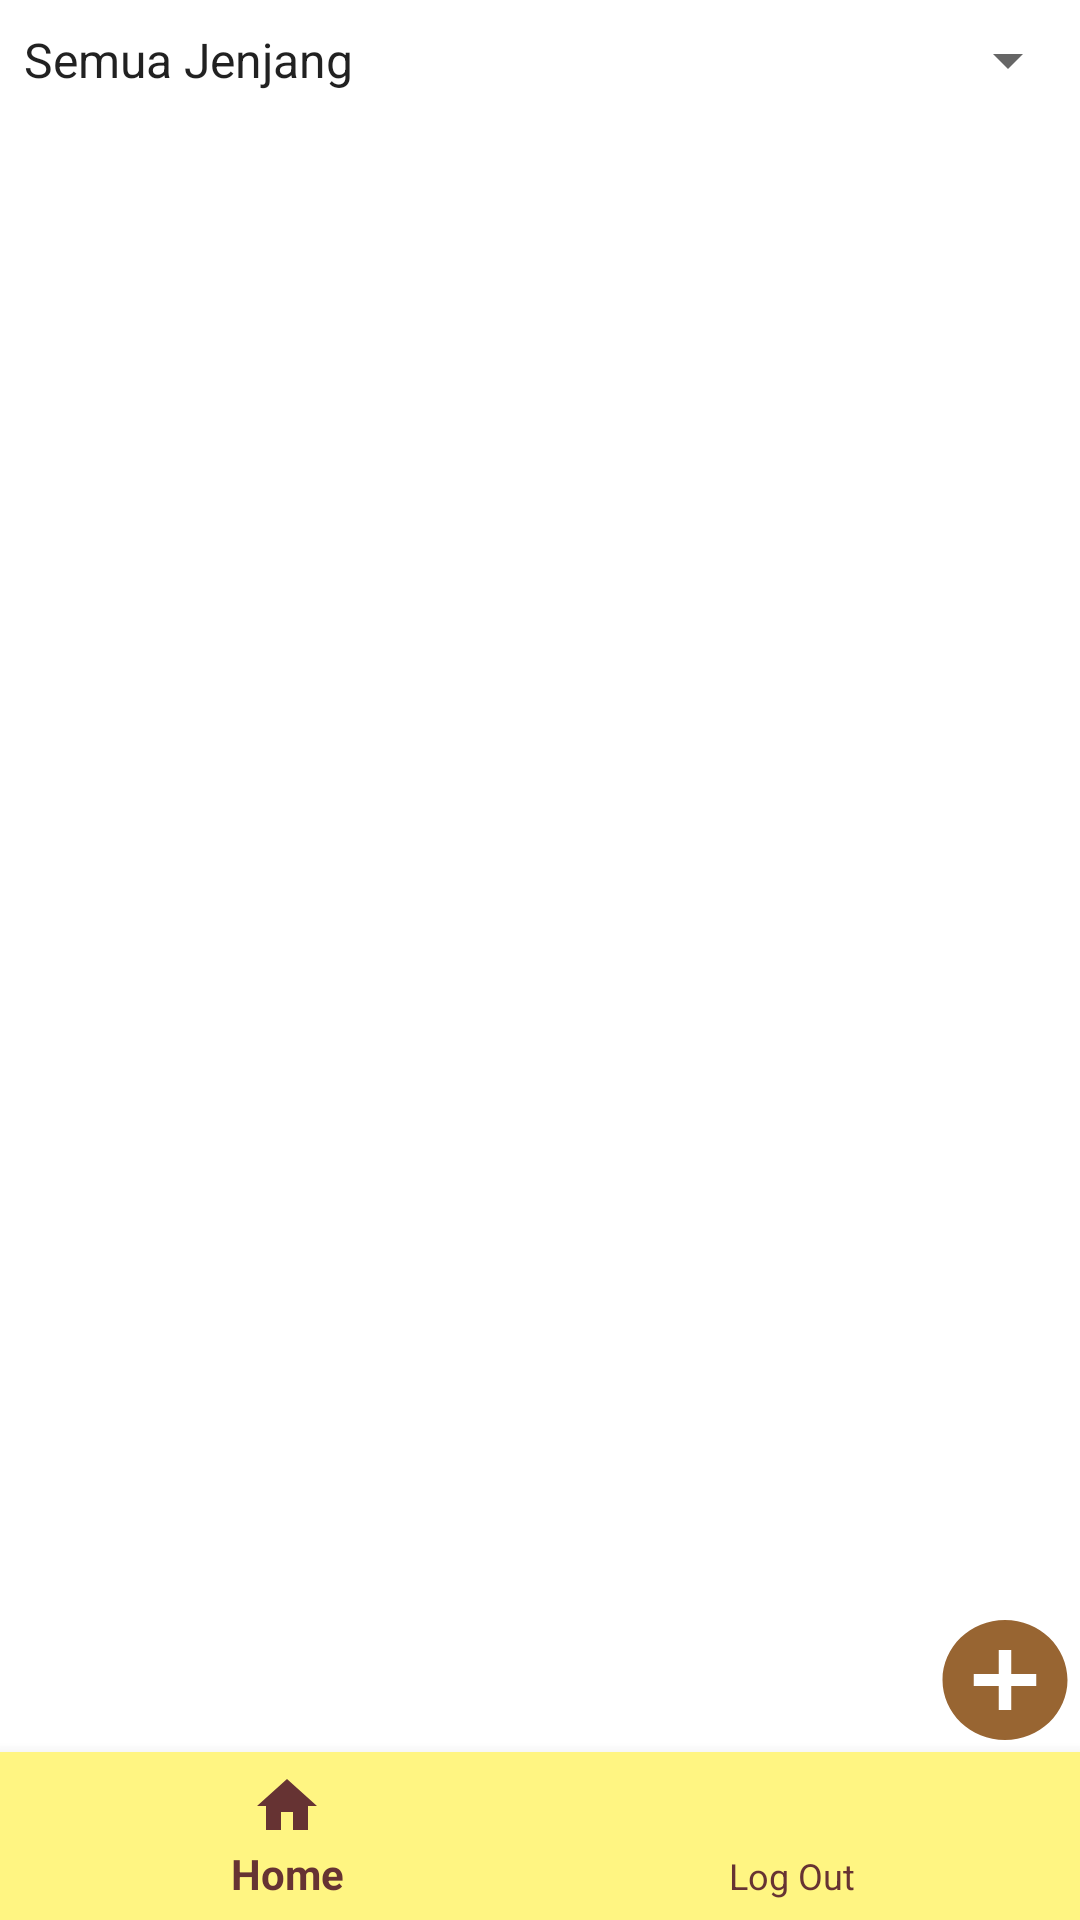

Where icons sit on this 1080 × 1920 app screen, as (x1, y1, x2, y2):
plus: (942, 1620, 1068, 1740)
